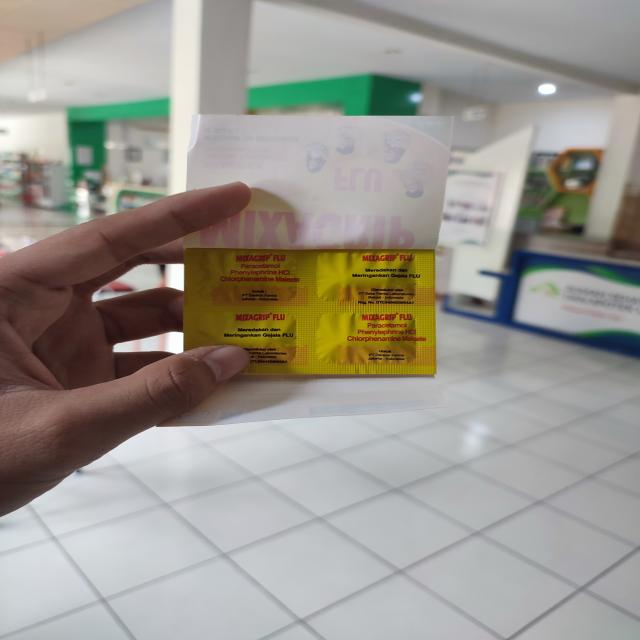B3: (155, 113, 455, 429)
